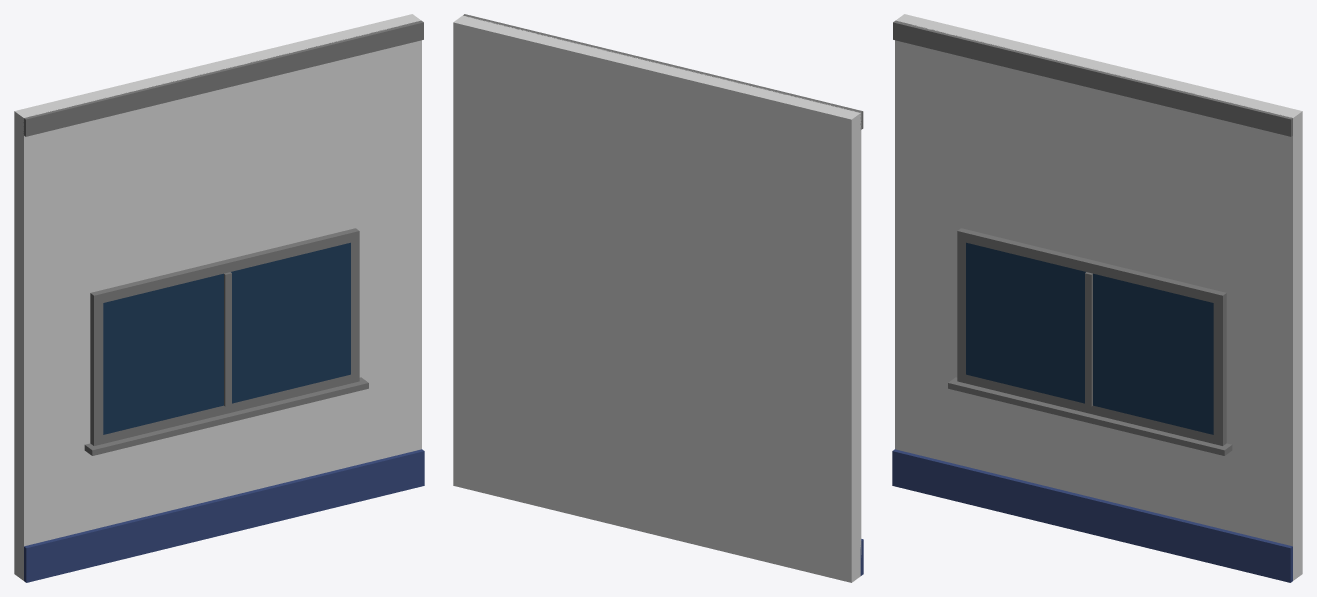
The model's file is mid-w1.fbx.
The picture shows the model from 3 angles, left to right: view 1: azimuth 30°, elevation 25°; view 2: azimuth 150°, elevation 25°; view 3: azimuth 330°, elevation 25°; orthographic projection.
Visible parts, largest first — view 1: a1037/0/mid-w1; view 2: a1037/0/mid-w1; view 3: a1037/0/mid-w1.
Part boxes in pixels (x1=…): a1037/0/mid-w1: x1=14, y1=14, x2=424, y2=582; a1037/0/mid-w1: x1=453, y1=14, x2=863, y2=582; a1037/0/mid-w1: x1=892, y1=14, x2=1302, y2=582.
Size of the model in its own units: 3.6 by 4 by 0.27.
